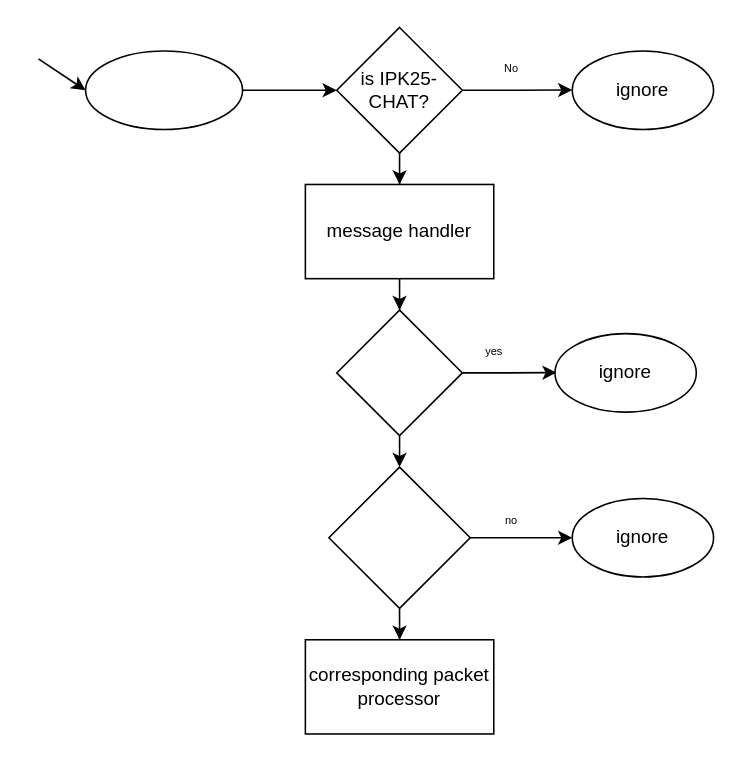
The diagram is 741 pixels wide and 761 high, and some of its shapes have lost their labels. Here are the shapes that lost their labels. From the top down, the centre of each, then its label:
At (163,89): "extracted message ending with '\r\n'".
At (398,372): "malformed?".
At (398,537): "valid in the current state of FSM?".
